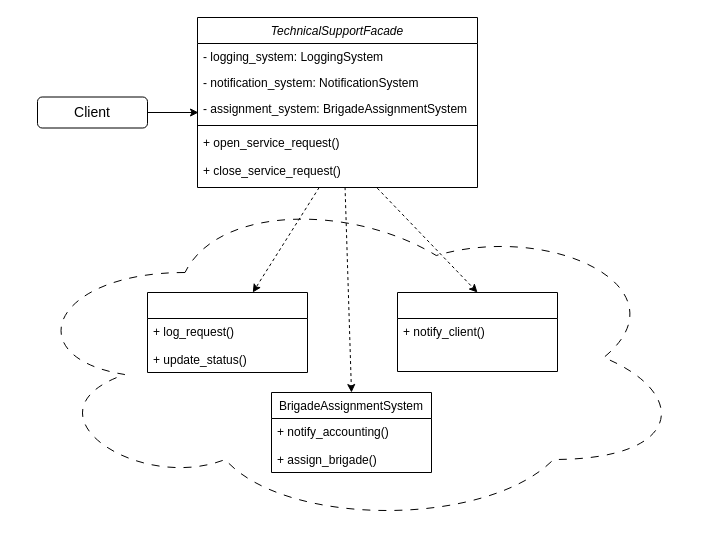
Some shapes in this 705 by 545 pixel diagram are drawn without their labels. Here are the shapes that lost their labels. From the top down, the box of each, then its label:
(146, 292, 308, 372): LoggingSystem
(396, 292, 558, 372): NotificationSystem
